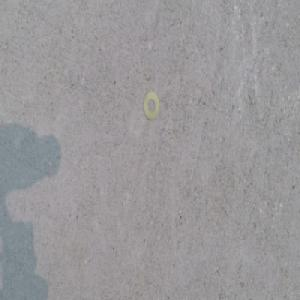Washer: (142, 90, 160, 122)
